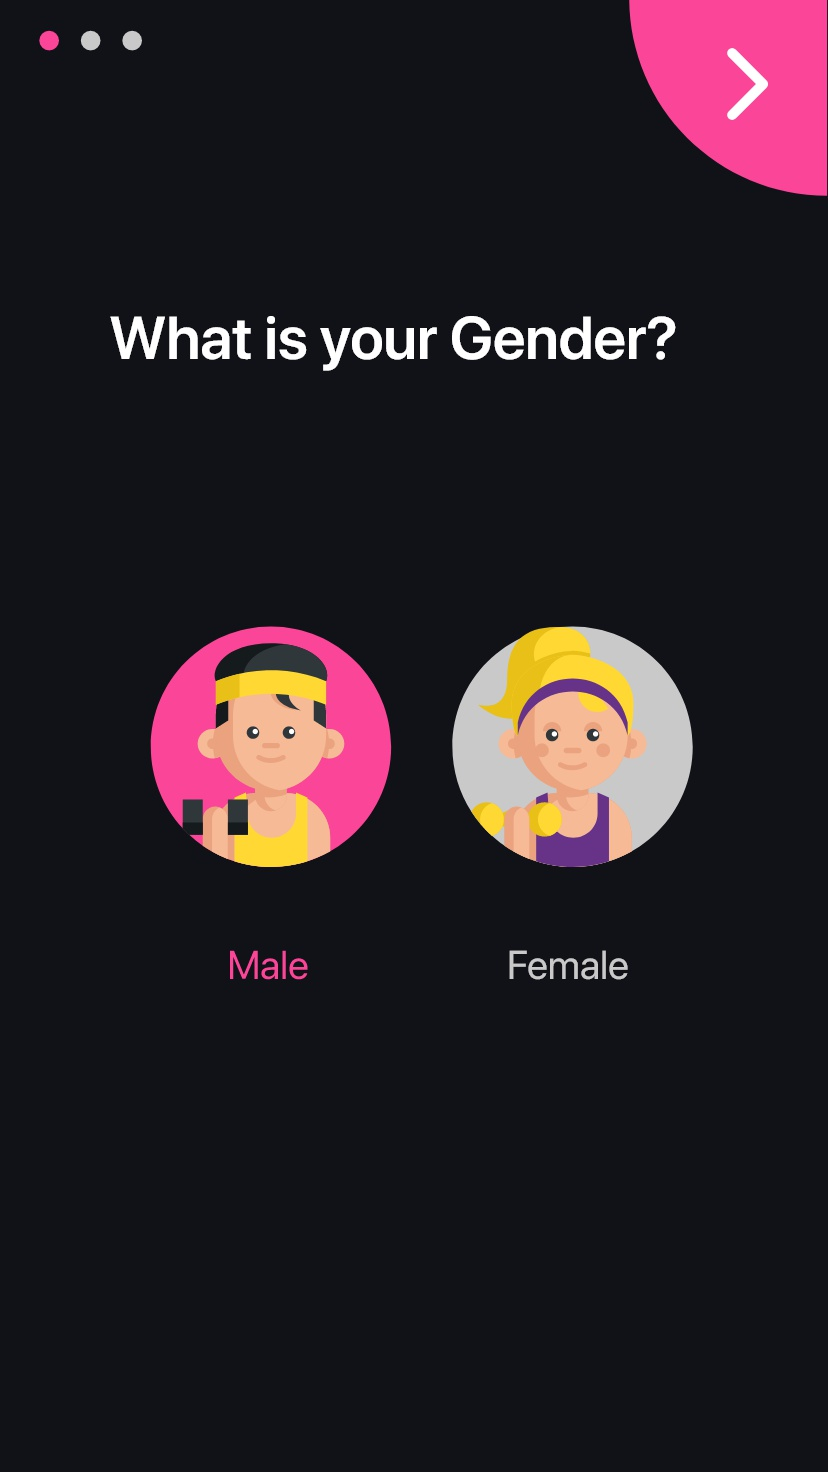Icon: (726, 48, 769, 122)
Image: (151, 626, 392, 868), (452, 627, 693, 868)
PageIndicator: (39, 30, 144, 53)
Text: (110, 315, 677, 373), (508, 949, 629, 981), (231, 950, 310, 981)
